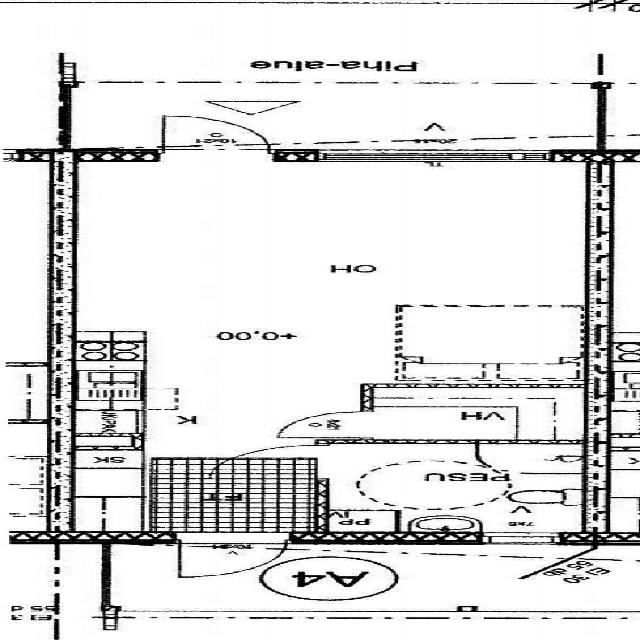door: (163, 116, 267, 161), (179, 532, 284, 576), (208, 445, 326, 478), (278, 412, 372, 438)
